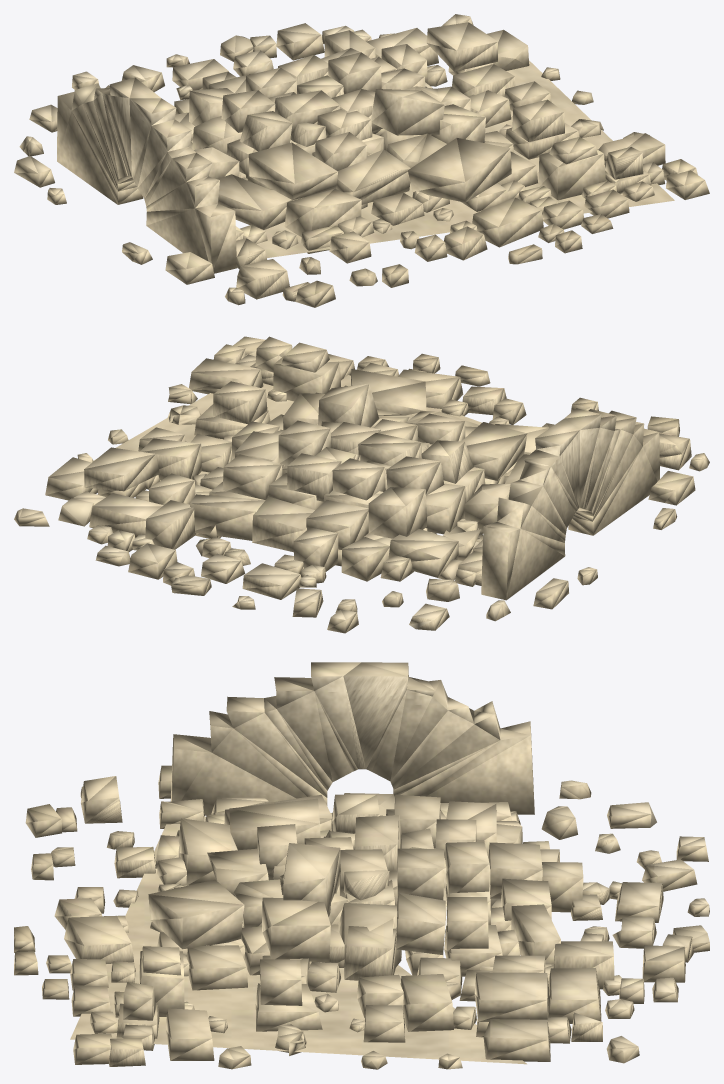
3 views of the same model, one above another, from view 1: azimuth 30°, elevation 25°; view 2: azimuth 150°, elevation 25°; view 3: azimuth 270°, elevation 25° (orthographic). The views are drawn at different scales.
Visible parts, largest first — view 1: castle_d4.4; view 2: castle_d4.4; view 3: castle_d4.4.
Boxes of the visible parts, x1,y1,x2,y2 form: castle_d4.4: [14, 14, 709, 307]; castle_d4.4: [14, 336, 709, 633]; castle_d4.4: [14, 662, 709, 1069].
Bounding box in the file's own units: 2.9 × 0.6705 × 2.9.
1 material, 1 textured.
